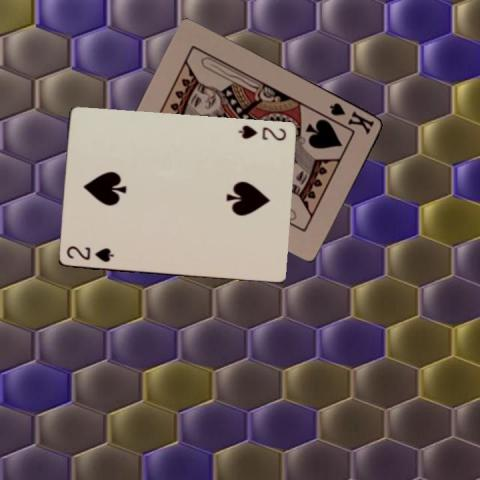2s: (63, 243, 115, 264), (236, 122, 288, 143)
Ks: (327, 99, 376, 136)
